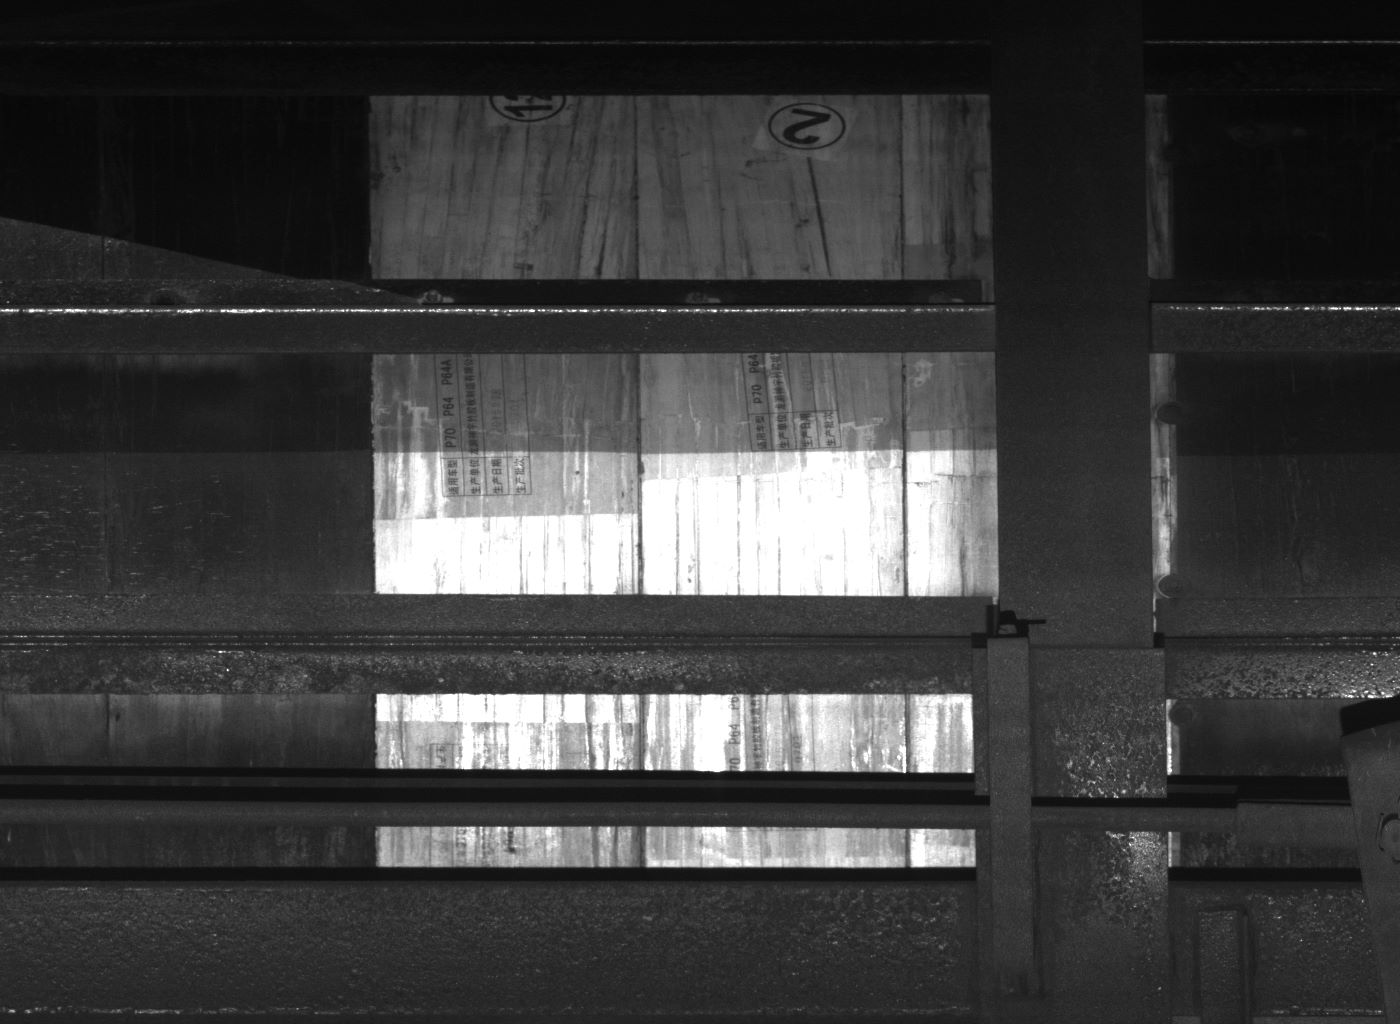normal: (988, 624, 1050, 992)
